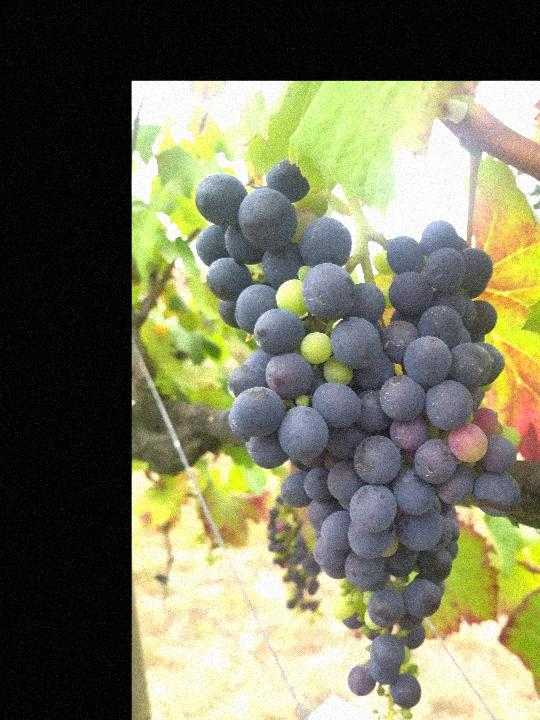grape: (194, 158, 521, 720)
